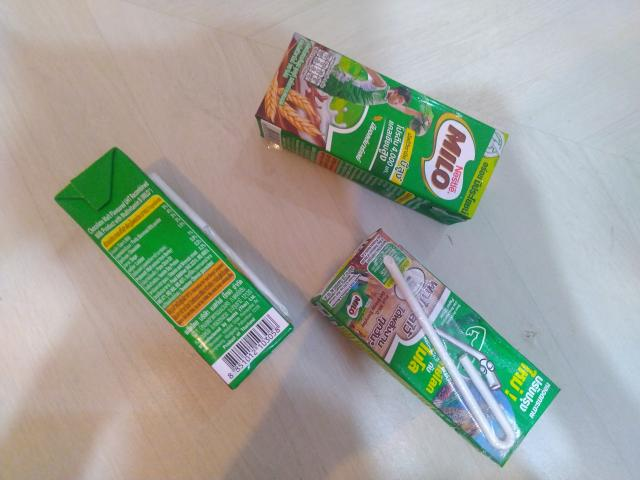drink_box: (35, 124, 322, 408), (285, 205, 577, 480), (224, 16, 541, 249)
